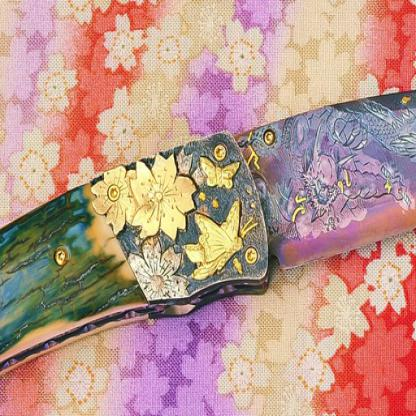knife: (0, 61, 415, 415)
